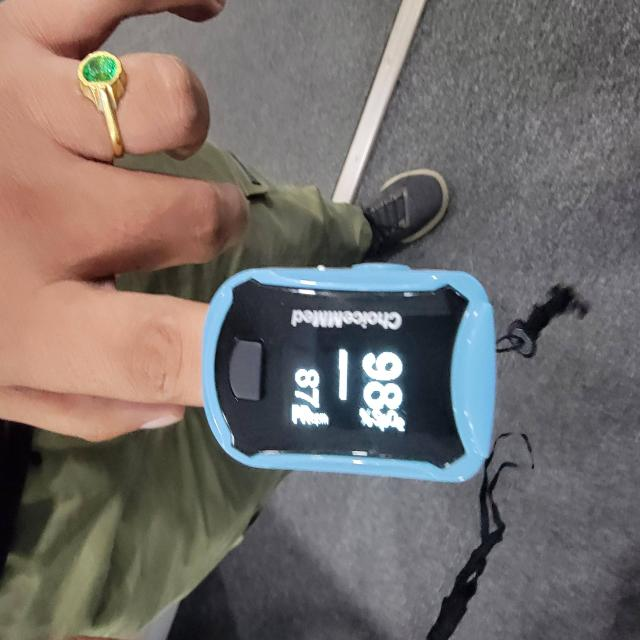spo2: (200, 264, 499, 486)
